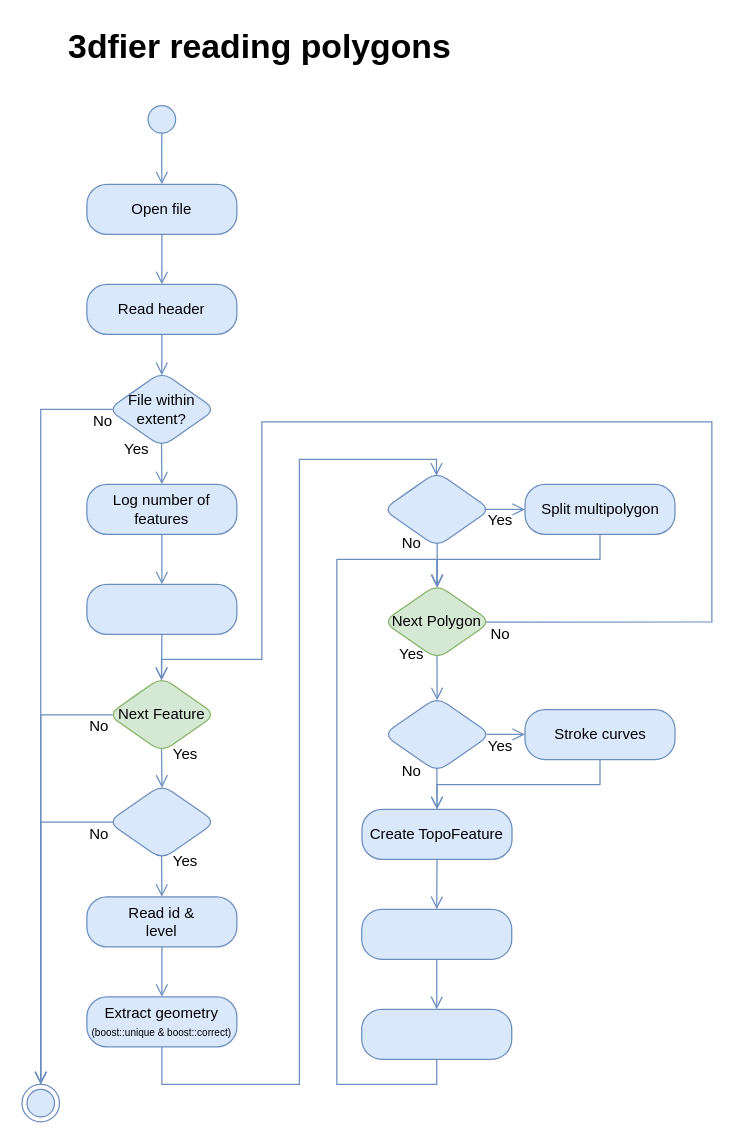
The diagram is 746 pixels wide and 1144 high, and some of its shapes have lost their labels. Here are the shapes that lost their labels. From the top down, the box of each, then its label:
(382, 471, 491, 547): Is multi?
(86, 583, 237, 634): Read feature
(382, 696, 491, 772): Is curved?
(107, 783, 216, 860): Has id & level?
(360, 908, 512, 959): Preallocate height vectors
(360, 1008, 512, 1059): Add to R-tree
